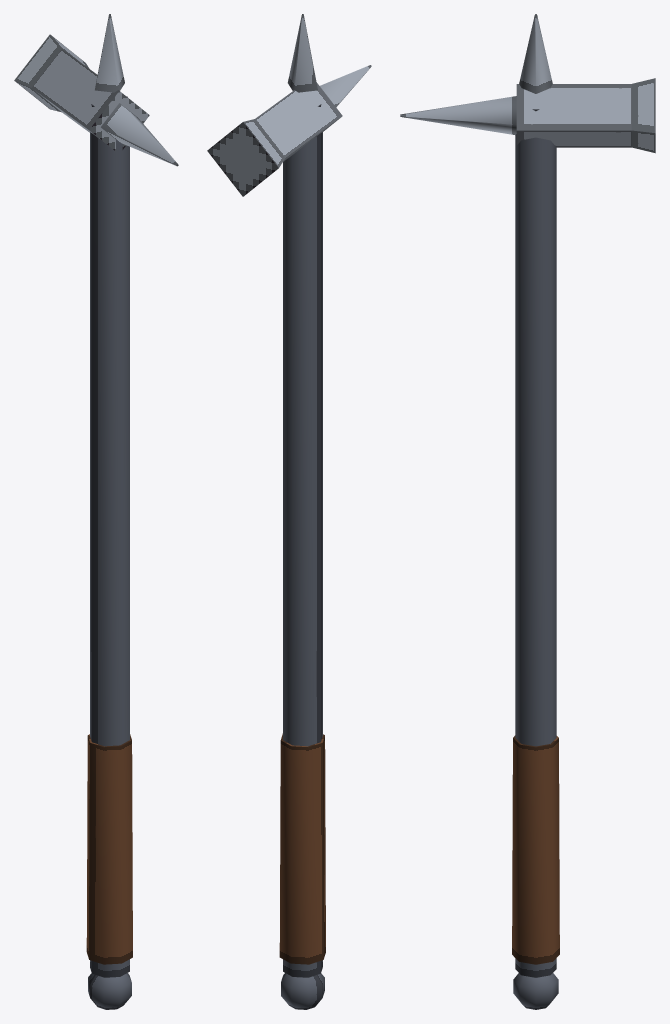
Rendered from war_hammer.glb.
3 views of the same model, side by side, from view 1: azimuth 30°, elevation 25°; view 2: azimuth 150°, elevation 25°; view 3: azimuth 270°, elevation 25° (orthographic).
Parts seen in each view (by area): view 1: war_hammer; view 2: war_hammer; view 3: war_hammer.
Boxes of the visible parts, left/top/right/bottom form: war_hammer: left=14, top=14, right=178, bottom=1009; war_hammer: left=207, top=14, right=371, bottom=1009; war_hammer: left=400, top=14, right=655, bottom=1009.
Bounding box in the file's own units: 0.052 × 0.687 × 0.16.
1 material, 1 textured.
